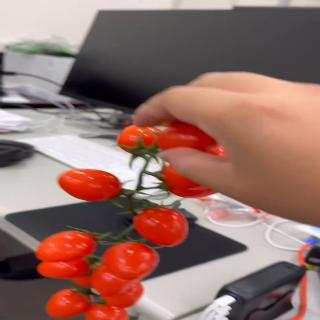tomato: (159, 164, 231, 199), (101, 241, 162, 281), (157, 122, 226, 156), (57, 168, 125, 202), (134, 205, 190, 246), (35, 230, 99, 262), (44, 288, 94, 320), (116, 126, 166, 158), (99, 278, 145, 308), (36, 256, 92, 280), (85, 304, 129, 320)
